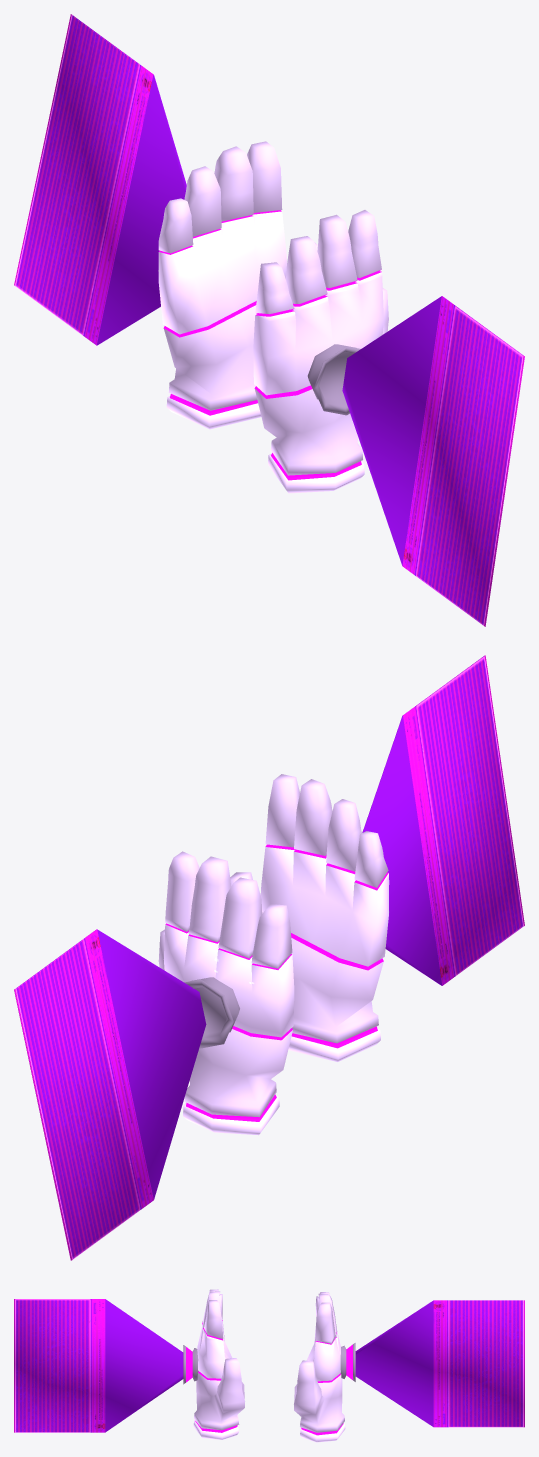
Rendered from Pool.glb.
3 views of the same model, one above another, from view 1: azimuth 30°, elevation 25°; view 2: azimuth 150°, elevation 25°; view 3: azimuth 270°, elevation 25° (orthographic). The views are drawn at different scales.
Visible parts, largest first — view 1: OSBGlove; view 2: OSBGlove; view 3: OSBGlove.
Part boxes in pixels (x1,y1,x2,y2): OSBGlove: (14, 14, 524, 626); OSBGlove: (14, 655, 524, 1260); OSBGlove: (14, 1289, 524, 1442).
Size of what is drawn, in the model's own units: 0.8244 by 1.54 by 4.83.
Materials: 2 (1 with a texture image).
